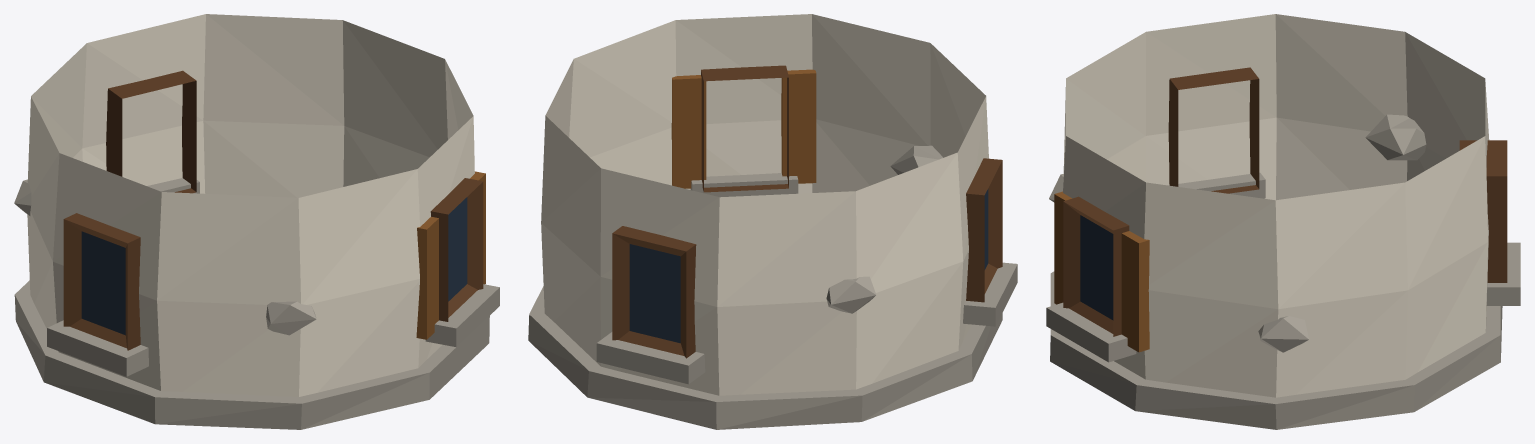
File: roundtower_floor_b.glb
The picture shows the model from 3 angles, left to right: view 1: azimuth 30°, elevation 25°; view 2: azimuth 150°, elevation 25°; view 3: azimuth 270°, elevation 25°; orthographic projection.
Parts seen in each view (by area): view 1: roundtower_floor_b; view 2: roundtower_floor_b; view 3: roundtower_floor_b.
Boxes of the visible parts, x1,y1,x2,y2 form: roundtower_floor_b: (14,14,499,429); roundtower_floor_b: (528,14,1017,429); roundtower_floor_b: (1046,14,1520,429).
Size of the model in its own units: 0.6613 by 0.336 by 0.6453.
